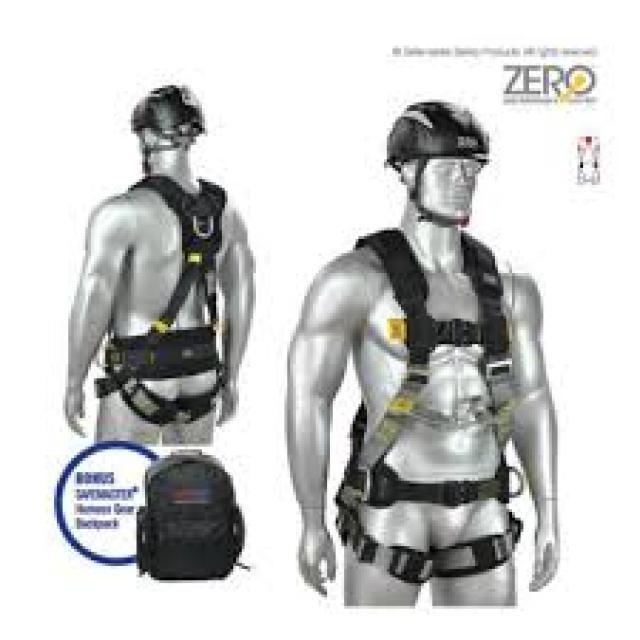Arnes_seguridad: (332, 230, 524, 586), (91, 176, 238, 422)
